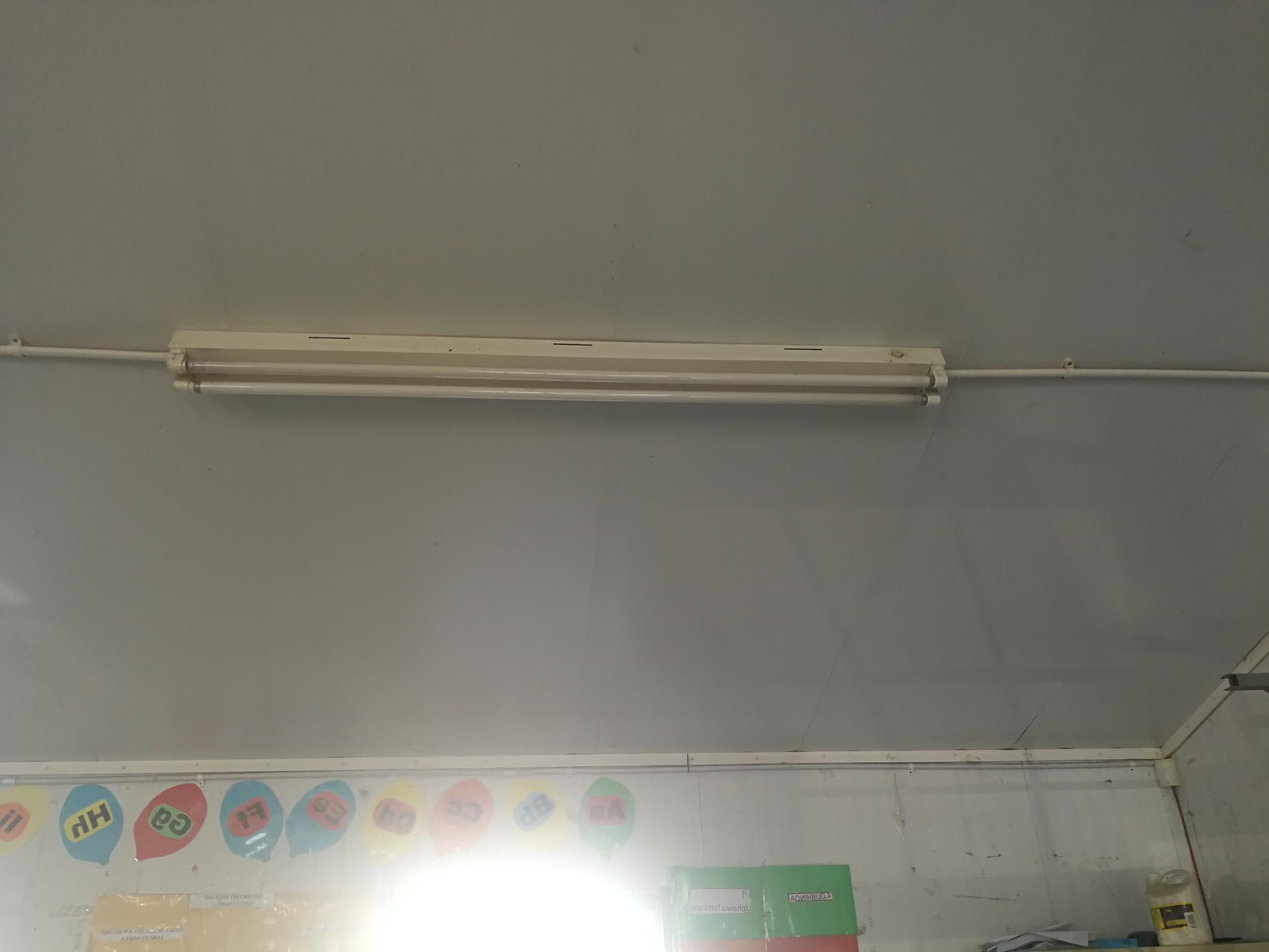light: (167, 328, 948, 407)
